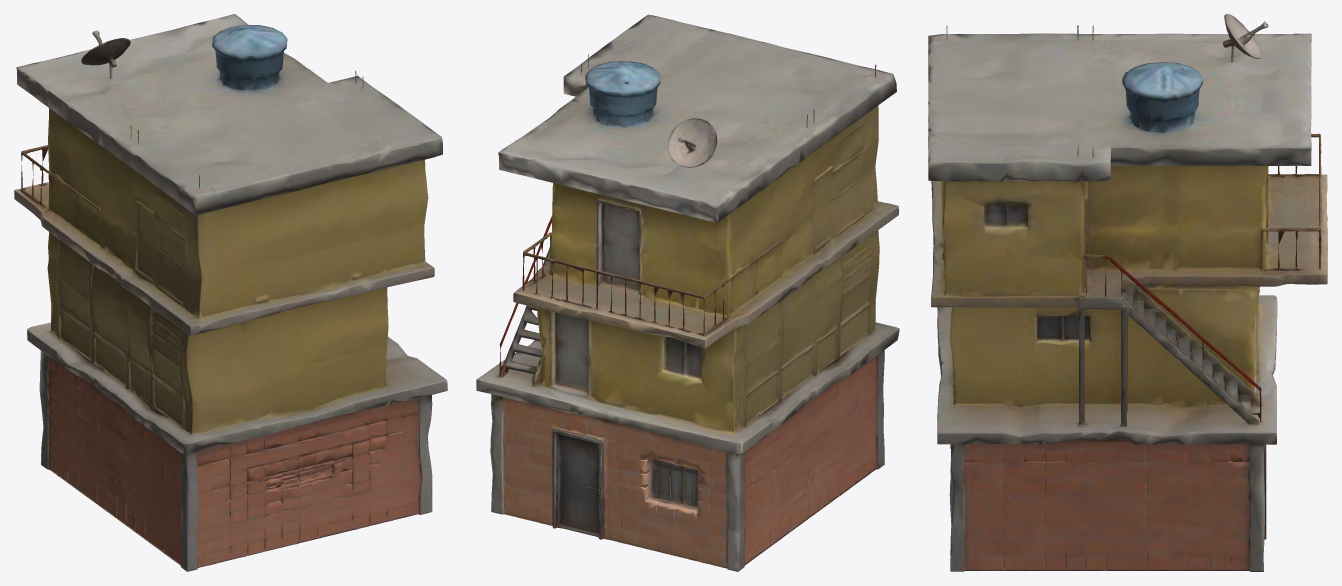
Rendered from favela_casa4.glb.
3 views of the same model, side by side, from view 1: azimuth 30°, elevation 25°; view 2: azimuth 150°, elevation 25°; view 3: azimuth 270°, elevation 25° (orthographic). The views are drawn at different scales.
Parts seen in each view (by area): view 1: tripo_node_18255173-41f3-4d41-bff8-dfab5a488aa8; view 2: tripo_node_18255173-41f3-4d41-bff8-dfab5a488aa8; view 3: tripo_node_18255173-41f3-4d41-bff8-dfab5a488aa8.
Boxes of the visible parts, x1,y1,x2,y2 form: tripo_node_18255173-41f3-4d41-bff8-dfab5a488aa8: (14, 14, 447, 571); tripo_node_18255173-41f3-4d41-bff8-dfab5a488aa8: (476, 14, 899, 571); tripo_node_18255173-41f3-4d41-bff8-dfab5a488aa8: (928, 14, 1327, 571).
Size of the model in its own units: 0.6438 by 0.9978 by 0.7863.
Materials: 1 (1 with a texture image).
